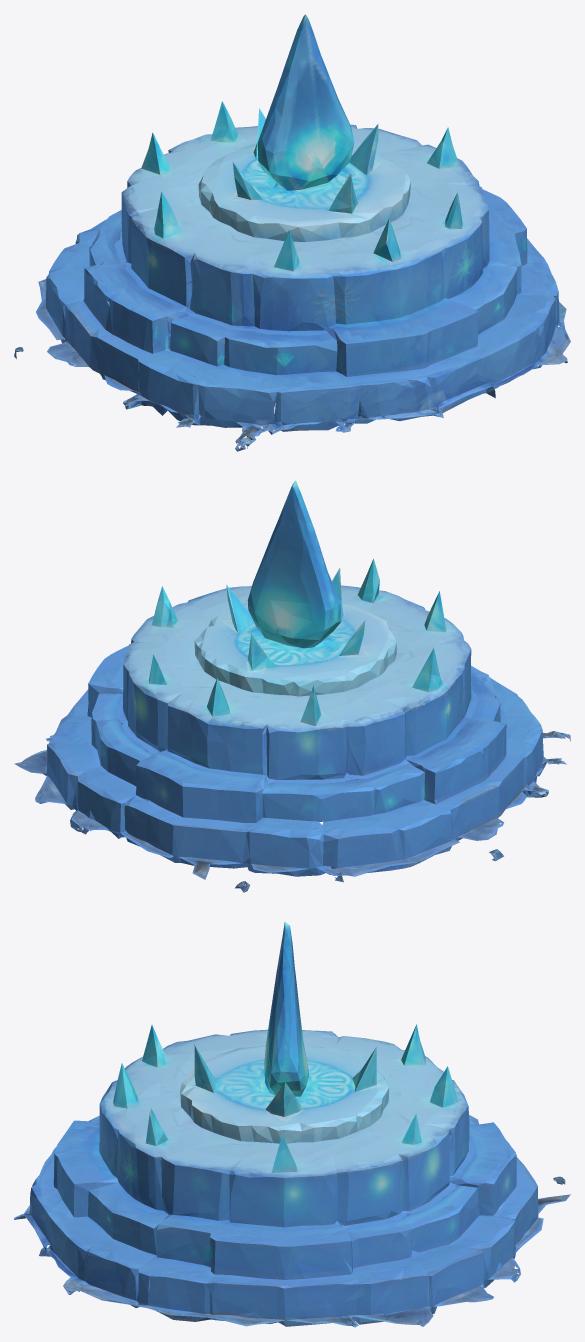
File: Altar Glacial .fbx
3 views of the same model, one above another, from view 1: azimuth 30°, elevation 25°; view 2: azimuth 150°, elevation 25°; view 3: azimuth 270°, elevation 25° (orthographic). The views are drawn at different scales.
Visible parts, largest first — view 1: temp; view 2: temp; view 3: temp.
Boxes of the visible parts, left/top/right/bottom form: temp: left=14, top=14, right=570, bottom=451; temp: left=14, top=480, right=570, bottom=892; temp: left=14, top=922, right=570, bottom=1327.
Bounding box in the file's own units: 180 × 112 × 183.
Materials: 1 (1 with a texture image).
